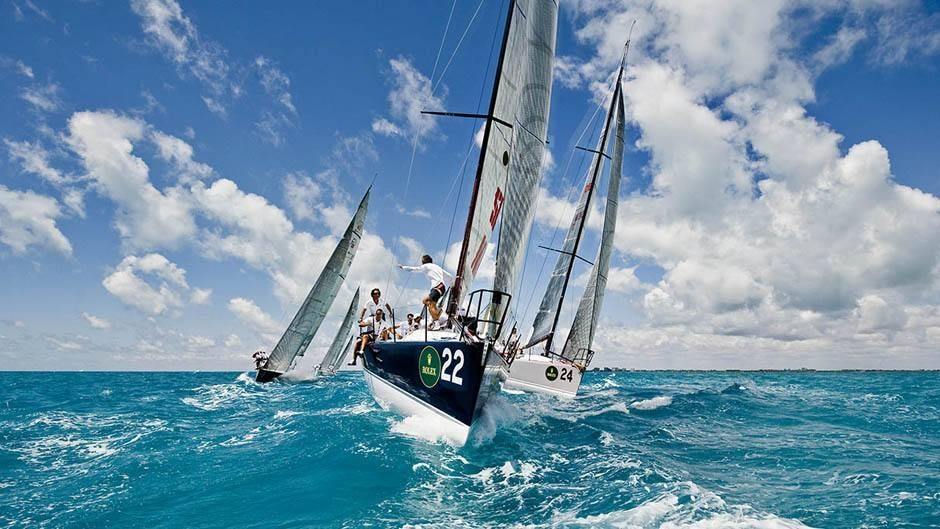fanchuan: (501, 21, 647, 394)
person: (392, 248, 459, 333)
